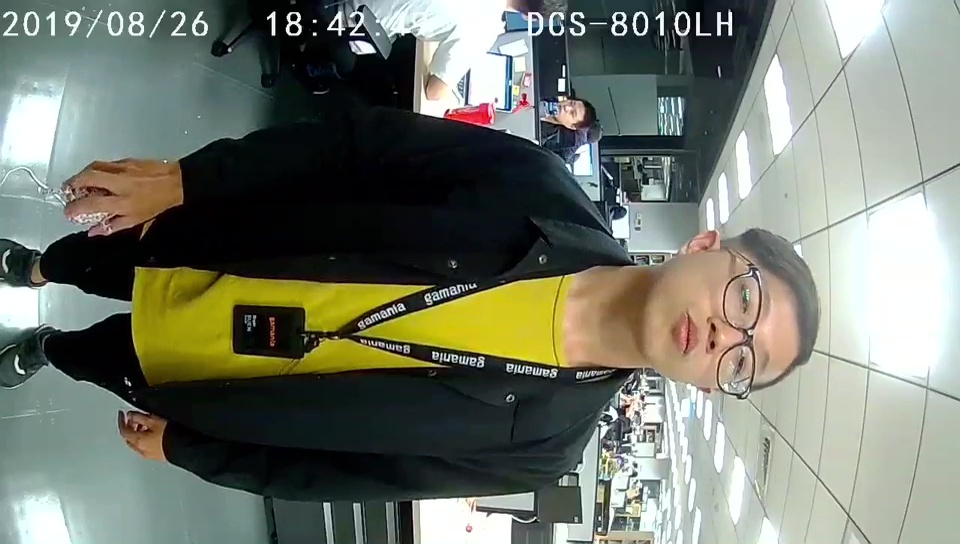pig: (64, 183, 115, 235)
